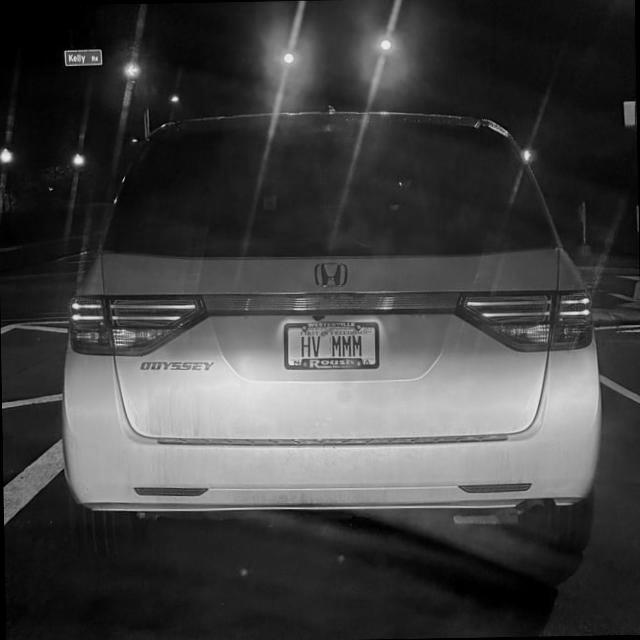LicensePlate: (283, 321, 379, 369)
